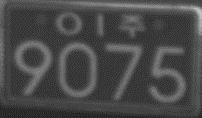0: (58, 41, 98, 98), (54, 10, 83, 37)
1: (88, 12, 113, 37)
5: (149, 46, 186, 104)
7: (104, 42, 143, 101)
9: (14, 38, 53, 95)
주: (118, 12, 146, 37)
